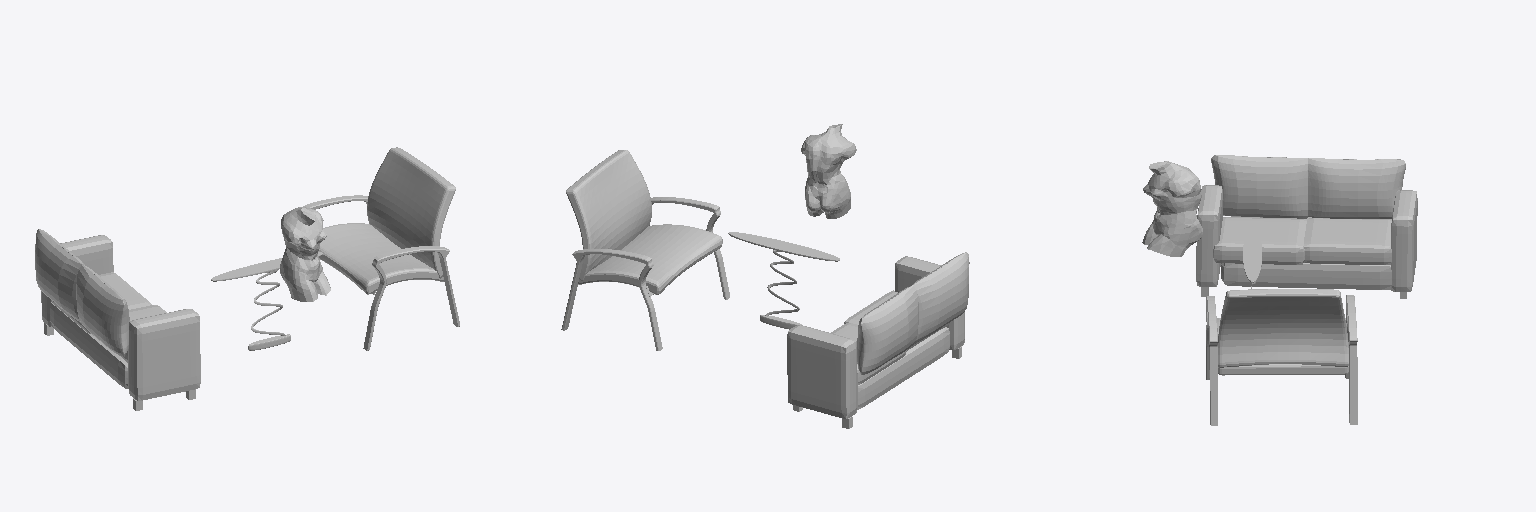
The picture shows the model from 3 angles: view 1: azimuth 30°, elevation 25°; view 2: azimuth 150°, elevation 25°; view 3: azimuth 270°, elevation 25°; orthographic projection.
Parts seen in each view (by area): view 1: ChamferBox02, Box05, ChamferBox01, skin, Line03, line102, Box03, Line01, Box04, Box02, ChamferCyl01; view 2: ChamferBox02, Box04, ChamferBox01, line102, skin, Line03, Box03, Line02, Box05, ChamferCyl01, Line01, Box02; view 3: ChamferBox02, Line03, line102, skin, Box02, Box03, Box01, Box04, Box05, Line01, ChamferBox01, Line02 (+1 smaller).
Part boxes in pixels (left/top/right/bottom): ChamferBox02: left=367, top=147, right=455, bottom=278; Box05: left=128, top=309, right=200, bottom=400; ChamferBox01: left=318, top=223, right=443, bottom=294; skin: left=280, top=207, right=330, bottom=301; Line03: left=76, top=265, right=129, bottom=356; line102: left=35, top=229, right=84, bottom=323; Box03: left=50, top=302, right=128, bottom=388; Line01: left=363, top=246, right=459, bottom=350; Box04: left=41, top=235, right=113, bottom=326; Box02: left=51, top=272, right=151, bottom=333; ChamferCyl01: left=211, top=252, right=322, bottom=281; ChamferBox02: left=566, top=150, right=651, bottom=280; Box04: left=787, top=325, right=857, bottom=418; ChamferBox01: left=578, top=224, right=722, bottom=294; line102: left=857, top=284, right=918, bottom=374; skin: left=801, top=124, right=856, bottom=218; Line03: left=913, top=252, right=969, bottom=343; Box03: left=857, top=327, right=949, bottom=409; Line02: left=561, top=249, right=662, bottom=350; Box05: left=895, top=256, right=964, bottom=349; ChamferCyl01: left=728, top=232, right=839, bottom=261; Line01: left=651, top=197, right=729, bottom=299; Box02: left=831, top=323, right=906, bottom=384; ChamferBox02: left=1218, top=289, right=1348, bottom=367; Line03: left=1211, top=155, right=1307, bottom=218; line102: left=1308, top=158, right=1405, bottom=218; skin: left=1142, top=161, right=1202, bottom=256; Box02: left=1304, top=217, right=1391, bottom=264; Box03: left=1221, top=263, right=1391, bottom=289; Box01: left=1213, top=217, right=1306, bottom=264; Box04: left=1391, top=190, right=1417, bottom=291; Box05: left=1196, top=185, right=1222, bottom=286; Line01: left=1206, top=296, right=1217, bottom=425; ChamferBox01: left=1217, top=318, right=1348, bottom=375; Line02: left=1345, top=295, right=1357, bottom=424.
Bounding box in the file's own units: 701 × 344 × 478.